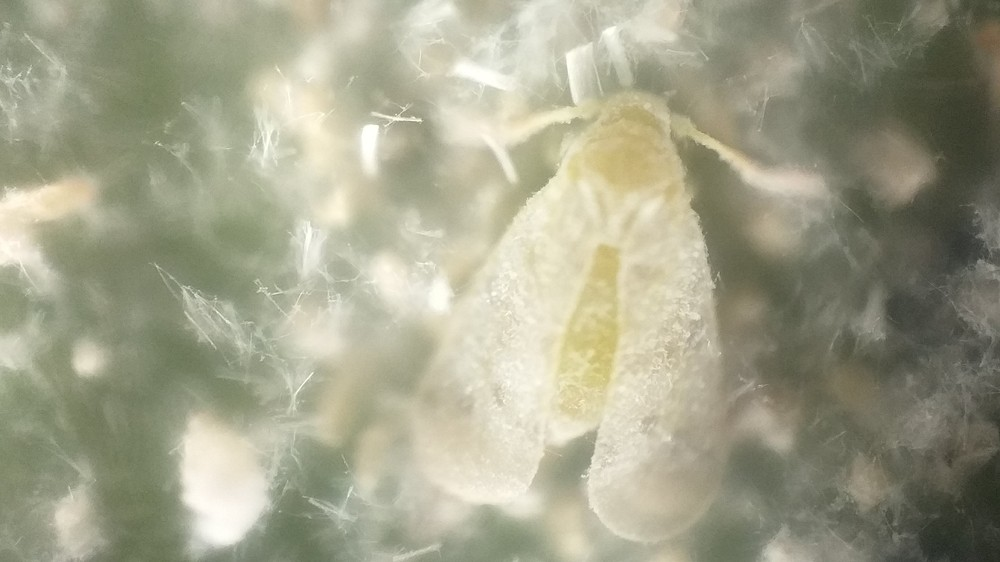Mosca Blanca: (379, 78, 859, 546)
